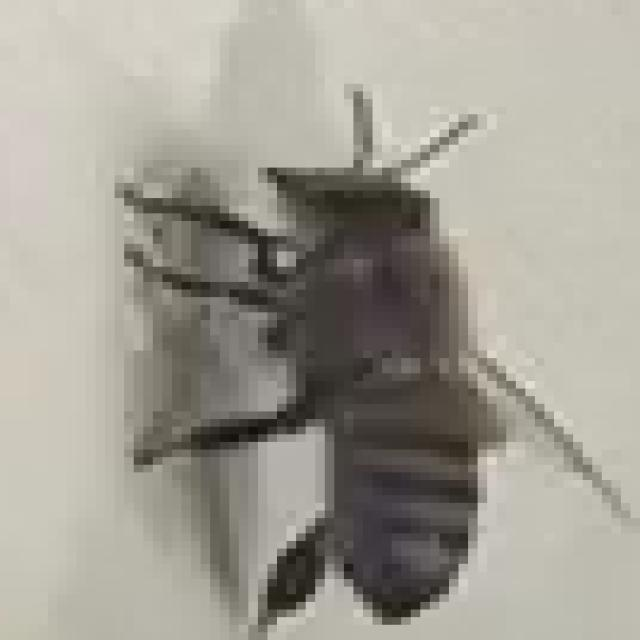honeybee: (67, 158, 543, 610)
